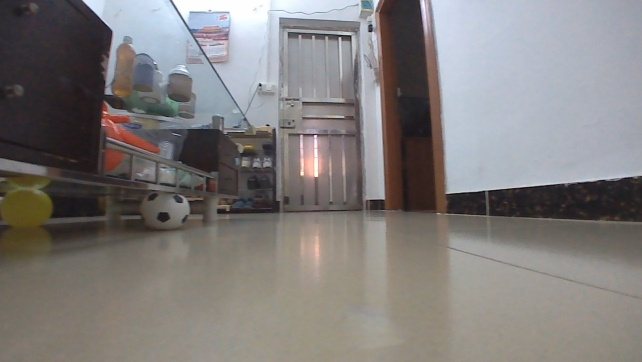door_anno: (278, 24, 366, 213)
tea_table1: (0, 0, 257, 224)
wire: (266, 1, 359, 16), (242, 84, 261, 115)
